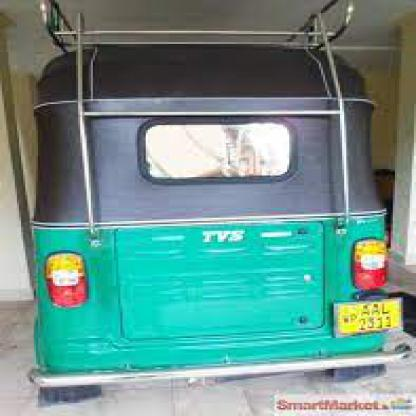tuk: (29, 5, 404, 398)
